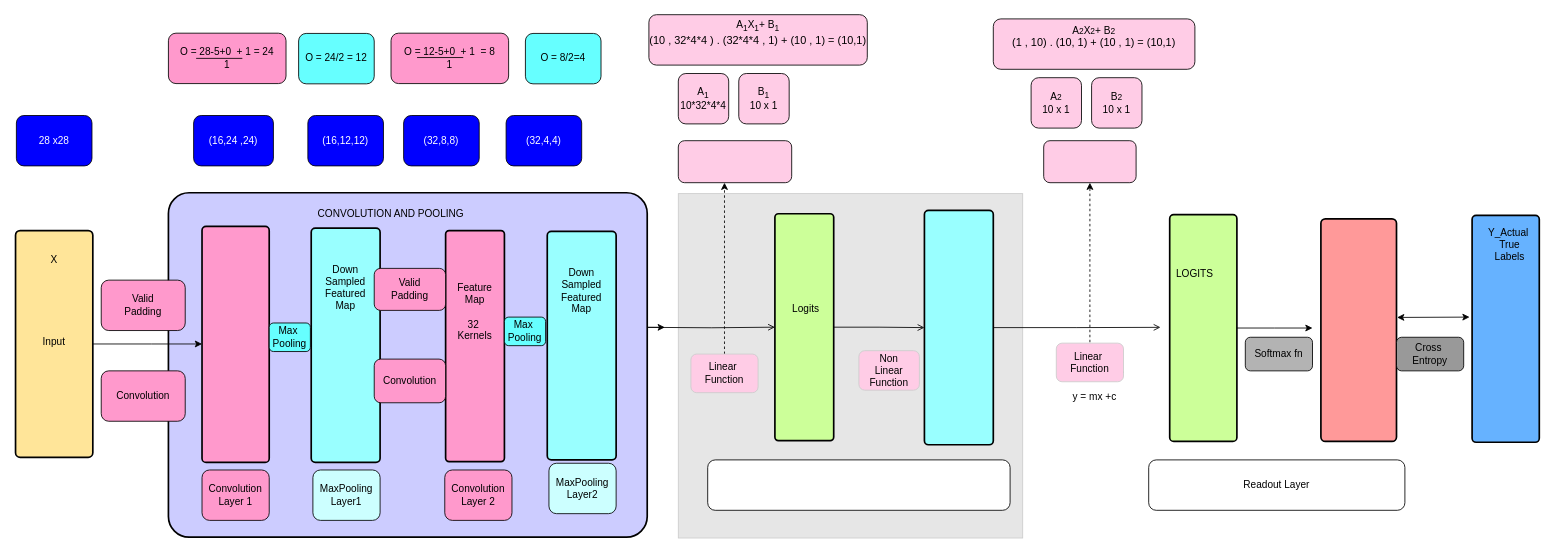
Some shapes in this 1554 by 553 pixel diagram are drawn without their labels. The centre of each missing label's shape, as x and y in pixels:
"A 1 X 1 + B 1" goes at point 734,161.
"A 2 X 2 + B 2" goes at point 1089,161.
"Feature Map 16 Kernels" goes at point 235,344.
"Fully Connected Layer" goes at point 858,484.
"Non Linear Output" goes at point 958,327.
"Softmax" goes at point 1358,330.
